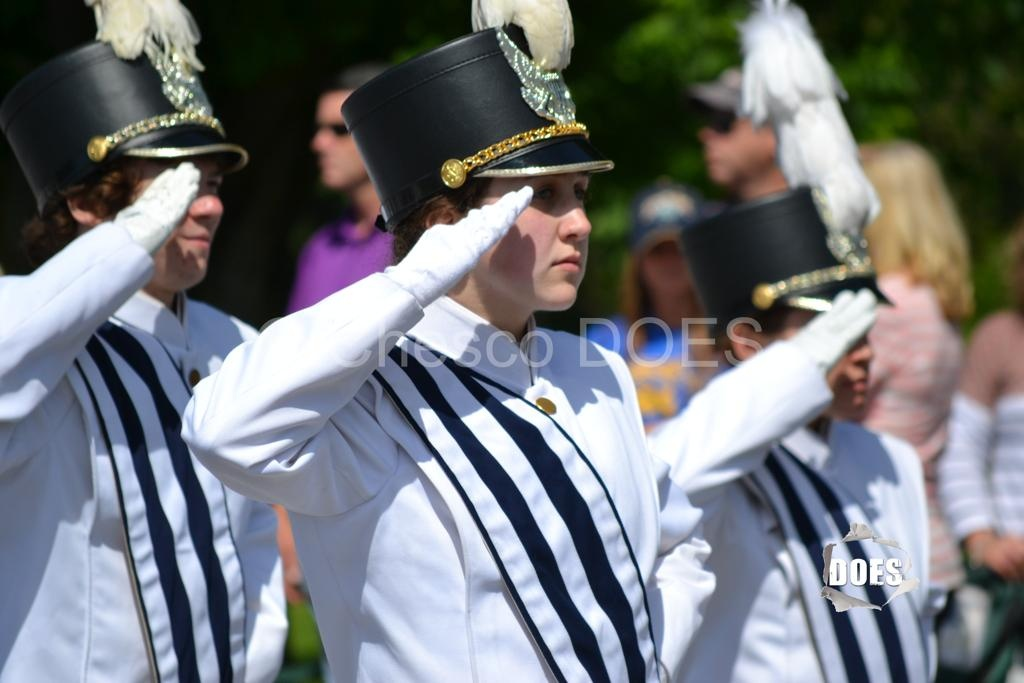human_face: (458, 154, 592, 308), (106, 134, 224, 292), (772, 280, 870, 408), (312, 94, 384, 186), (706, 96, 770, 182)
